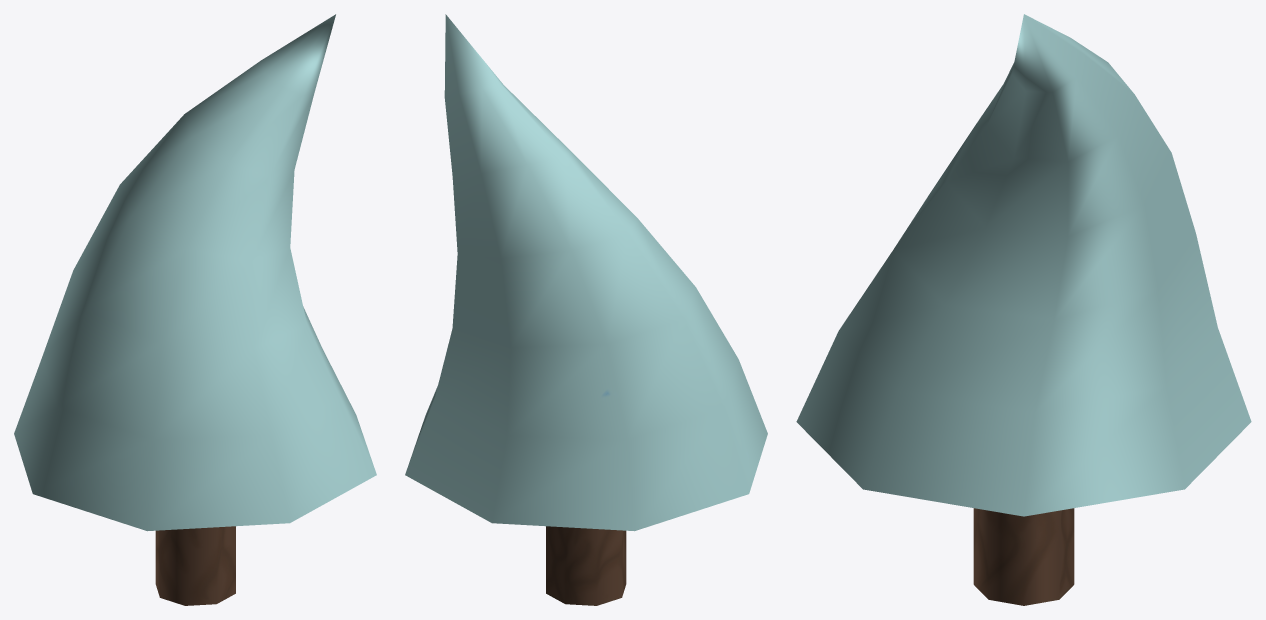
File: TreeB2.fbx
3 renders of one model, left to right at view 1: azimuth 30°, elevation 25°; view 2: azimuth 150°, elevation 25°; view 3: azimuth 270°, elevation 25°, orthographic. The views are drawn at different scales.
Visible parts, largest first — view 1: TreeB2_pCone1; view 2: TreeB2_pCone1; view 3: TreeB2_pCone1.
Part boxes in pixels (x1=…): TreeB2_pCone1: x1=14, y1=14, x2=376, y2=605; TreeB2_pCone1: x1=405, y1=14, x2=767, y2=605; TreeB2_pCone1: x1=796, y1=14, x2=1251, y2=605.
Bounding box in the file's own units: 5.95 × 9.51 × 6.
1 material, 1 textured.
